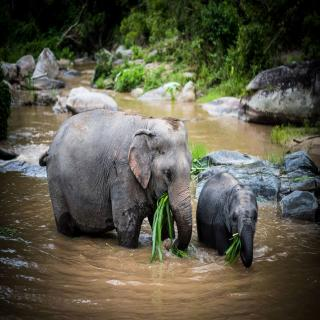Elephant: (37, 105, 195, 262), (193, 168, 260, 272)
